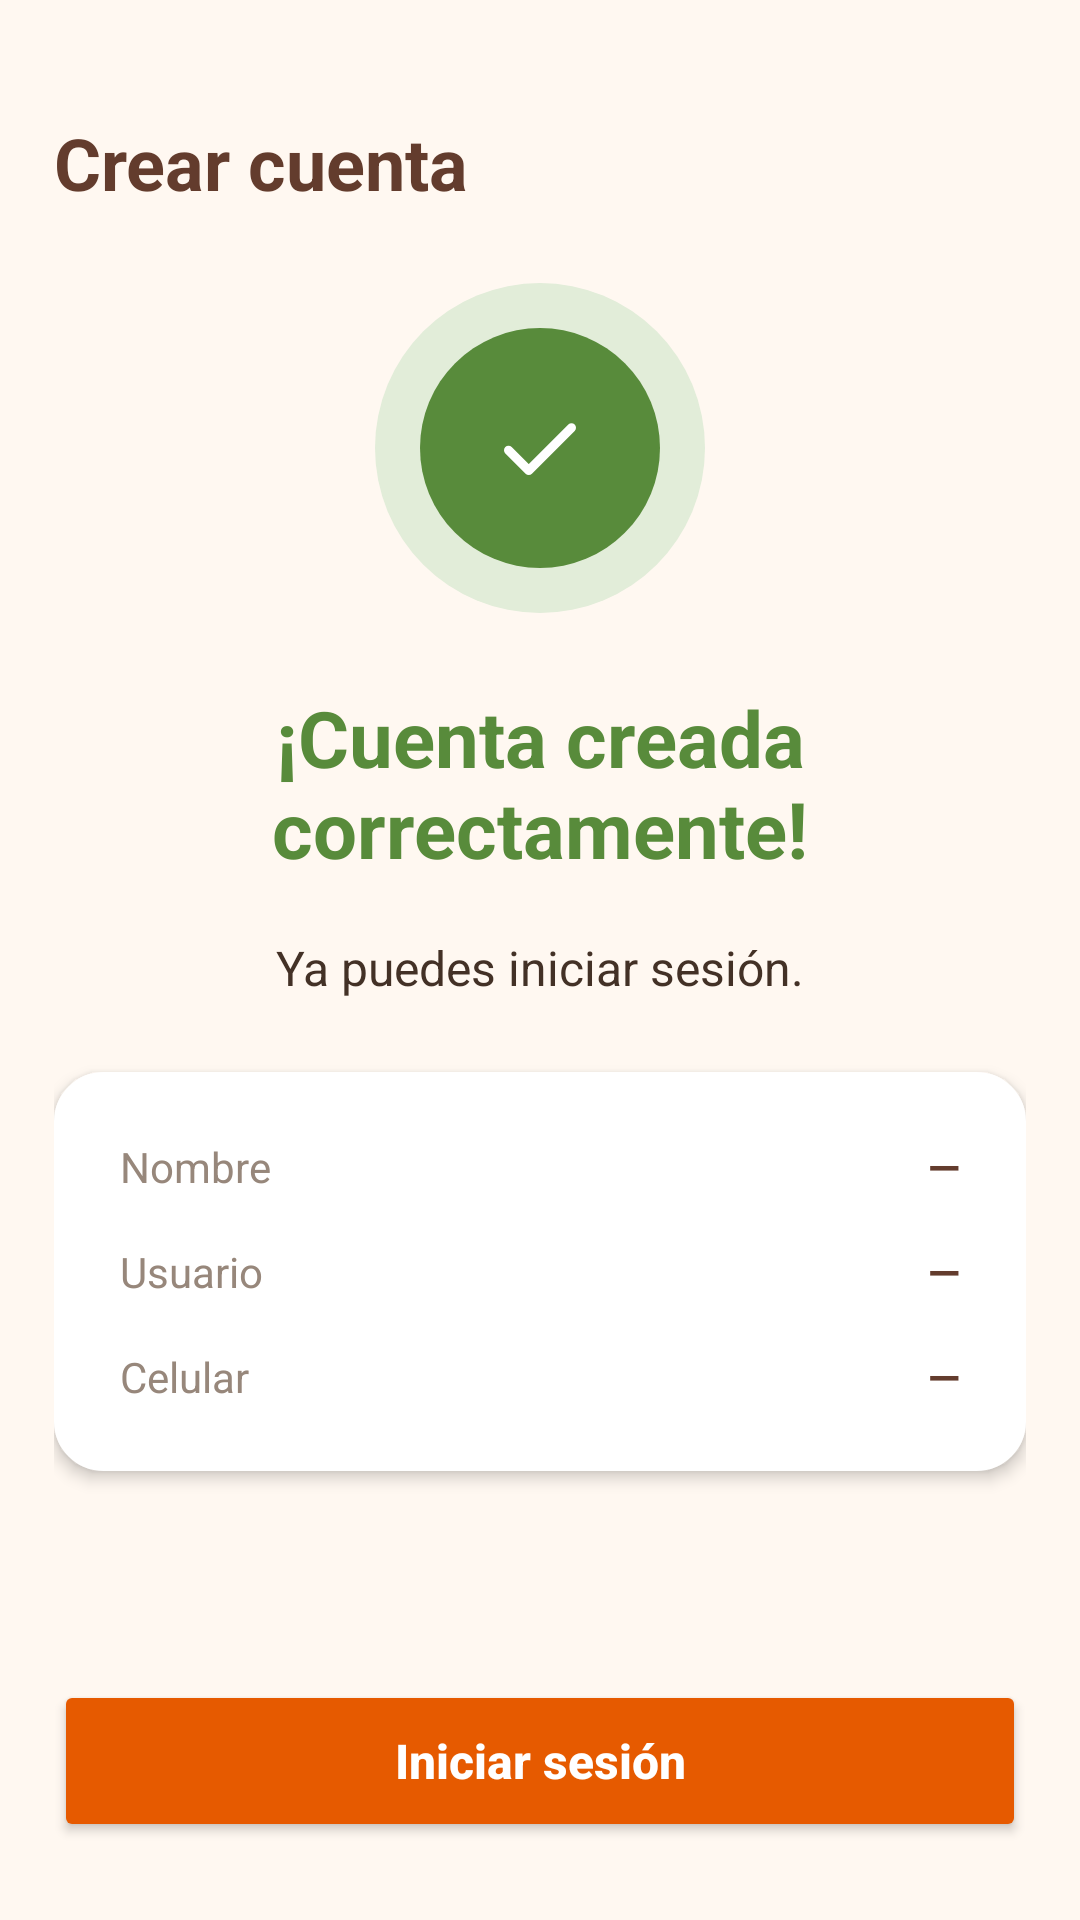

Named icons in this screenshot (1080*1920) and their centers, (x=x, y=y):
Cuenta creada correctamente: (x=540, y=449)
